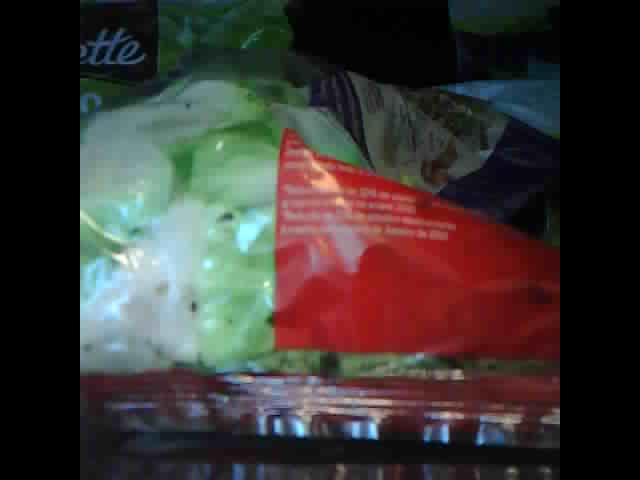florette: (82, 72, 561, 442), (79, 2, 559, 71)
